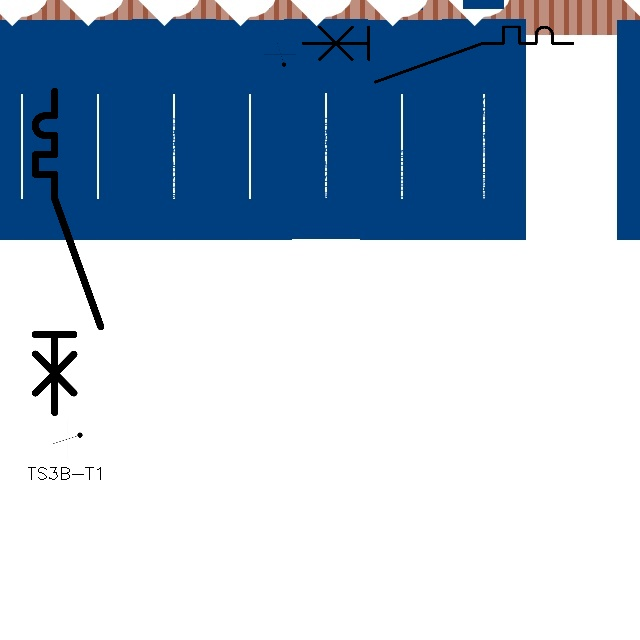interruptor_termomagnetico: (27, 83, 109, 420), (296, 20, 580, 89)
